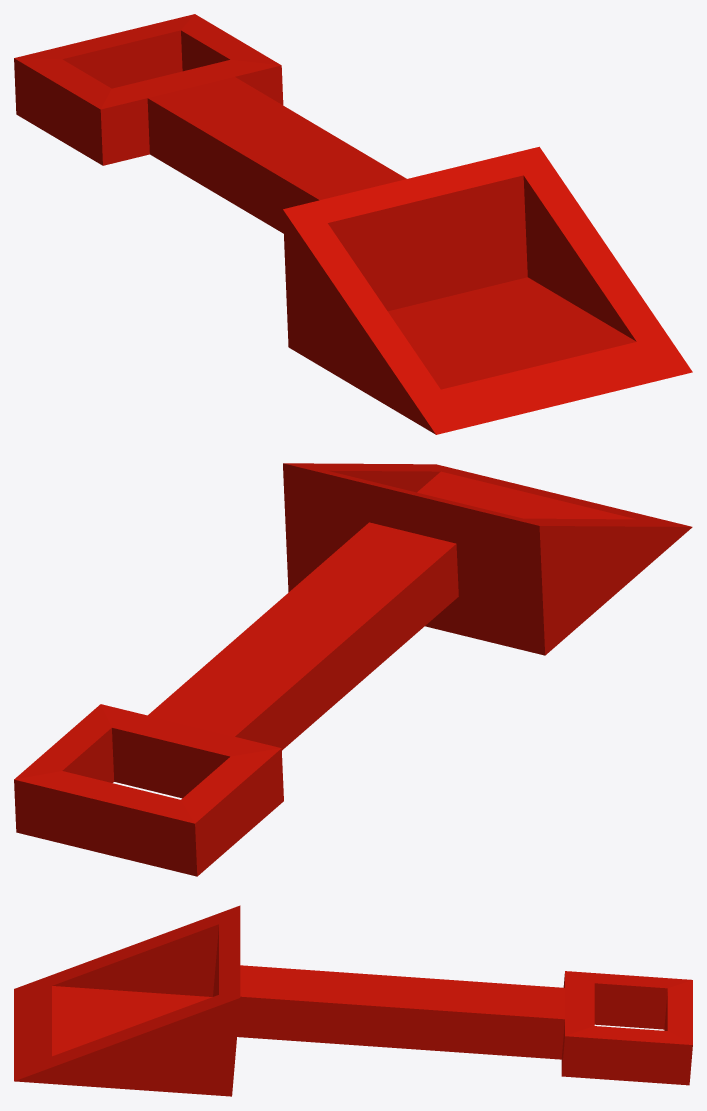
The model's file is BeachToy_1.fbx.
3 renders of one model, top to bottom at view 1: azimuth 30°, elevation 25°; view 2: azimuth 150°, elevation 25°; view 3: azimuth 270°, elevation 25°, orthographic. The views are drawn at different scales.
Visible parts, largest first — view 1: Shovel; view 2: Shovel; view 3: Shovel.
Boxes of the visible parts, x1,y1,x2,y2 form: Shovel: [14, 14, 692, 434]; Shovel: [14, 463, 692, 876]; Shovel: [14, 905, 692, 1096].
Bounding box in the file's own units: 18.41 × 9.41 × 57.17.
